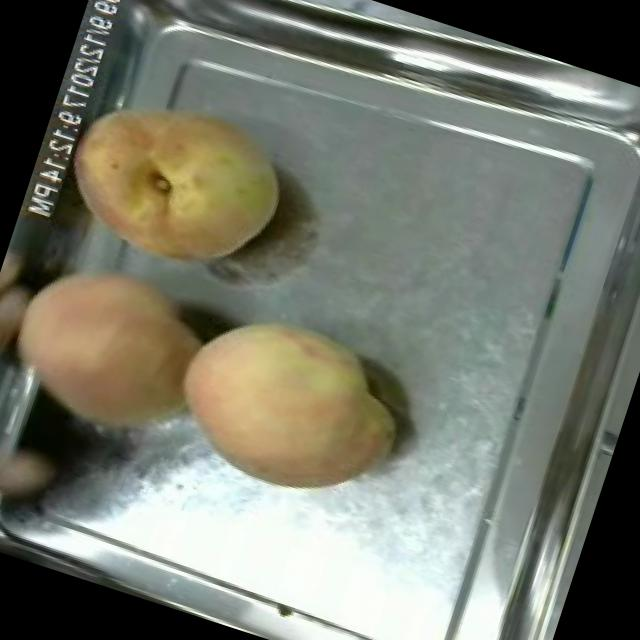Fruit: (154, 286, 428, 528), (40, 64, 310, 303), (0, 229, 228, 463)
